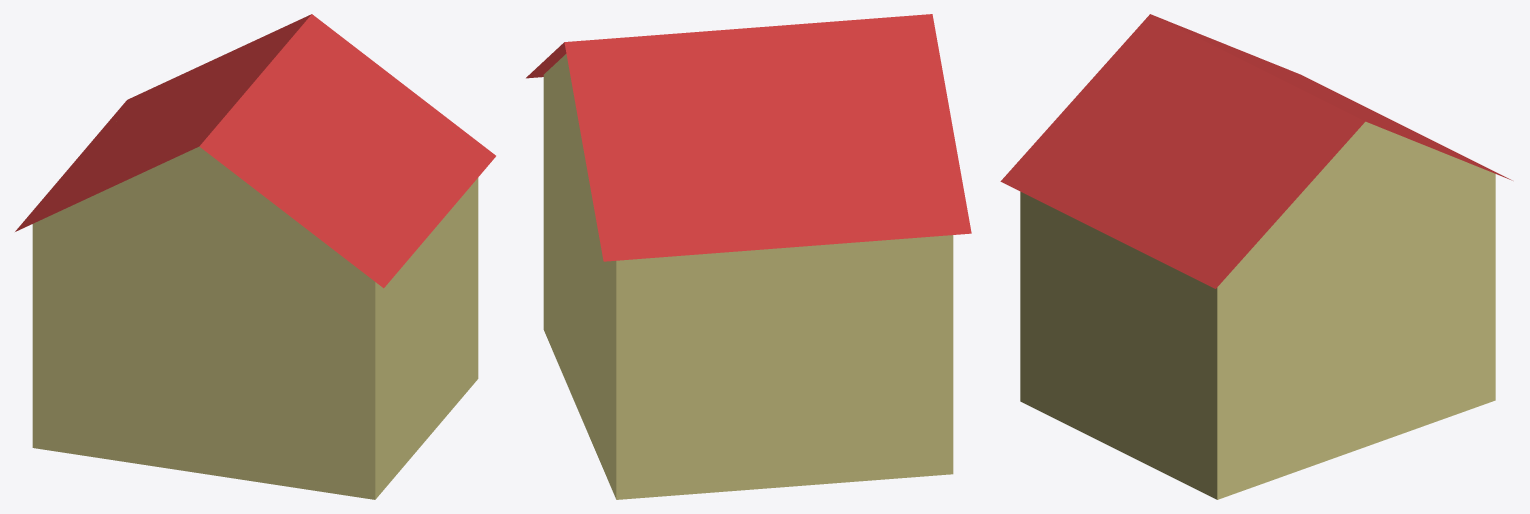
The picture shows the model from 3 angles, left to right: view 1: azimuth 30°, elevation 25°; view 2: azimuth 150°, elevation 25°; view 3: azimuth 270°, elevation 25°; orthographic projection. The views are drawn at different scales.
Bounding box in the file's own units: 17.88 × 18.12 × 12.94.
